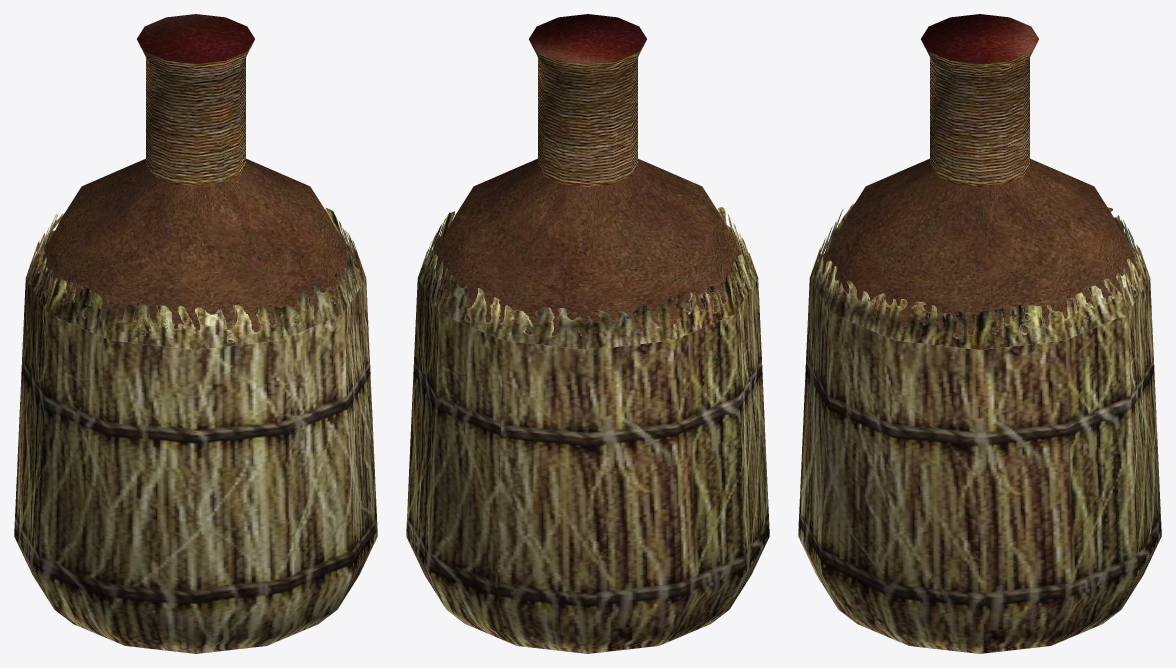
The model's file is ITMI_RUM_02.glb.
3 views of the same model, side by side, from view 1: azimuth 30°, elevation 25°; view 2: azimuth 150°, elevation 25°; view 3: azimuth 270°, elevation 25° (orthographic).
Visible parts, largest first — view 1: Mesh; view 2: Mesh; view 3: Mesh.
Part boxes in pixels (x1,y1,x2,y2): Mesh: [14, 14, 377, 653]; Mesh: [406, 14, 769, 653]; Mesh: [798, 14, 1161, 653].
Size of the model in its own units: 0.3353 by 0.5645 by 0.3353.
Materials: 4 (4 with a texture image).
